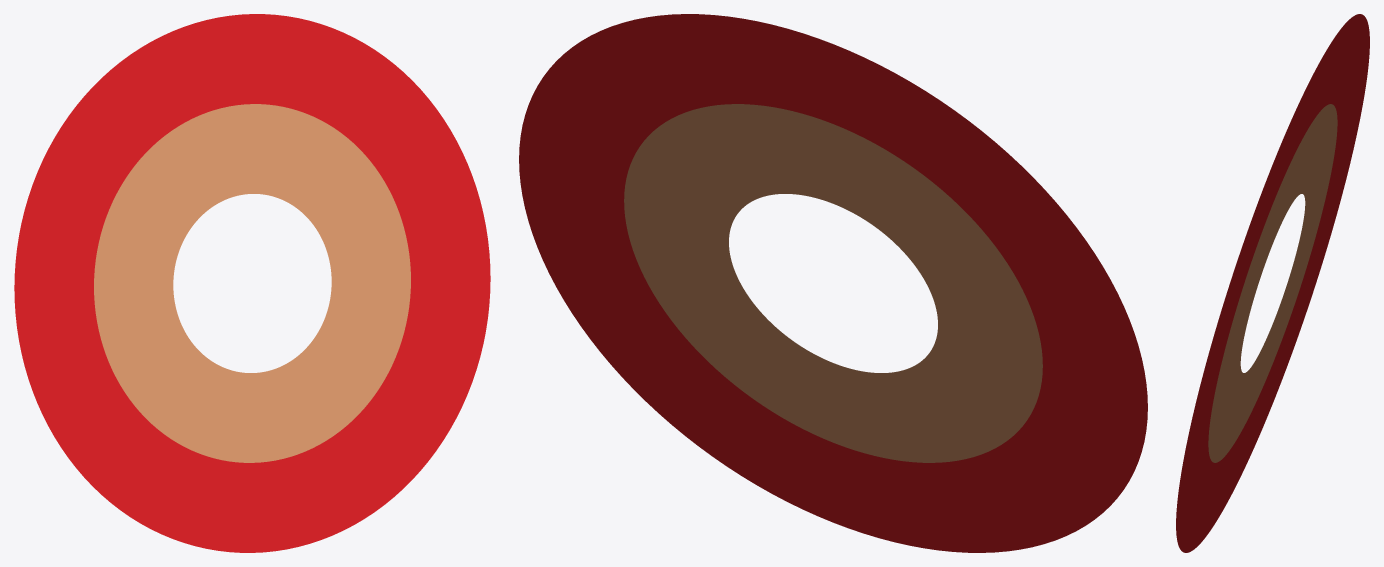
The model's file is Target2.fbx.
3 renders of one model, left to right at view 1: azimuth 30°, elevation 25°; view 2: azimuth 150°, elevation 25°; view 3: azimuth 270°, elevation 25°, orthographic. The views are drawn at different scales.
Parts seen in each view (by area): view 1: Target.001; view 2: Target.001; view 3: Target.001.
Boxes of the visible parts, x1,y1,x2,y2 form: Target.001: (14, 14, 490, 552); Target.001: (519, 14, 1147, 552); Target.001: (1176, 14, 1369, 552).
Size of the model in its own units: 59.56 by 55.97 by 20.37.
